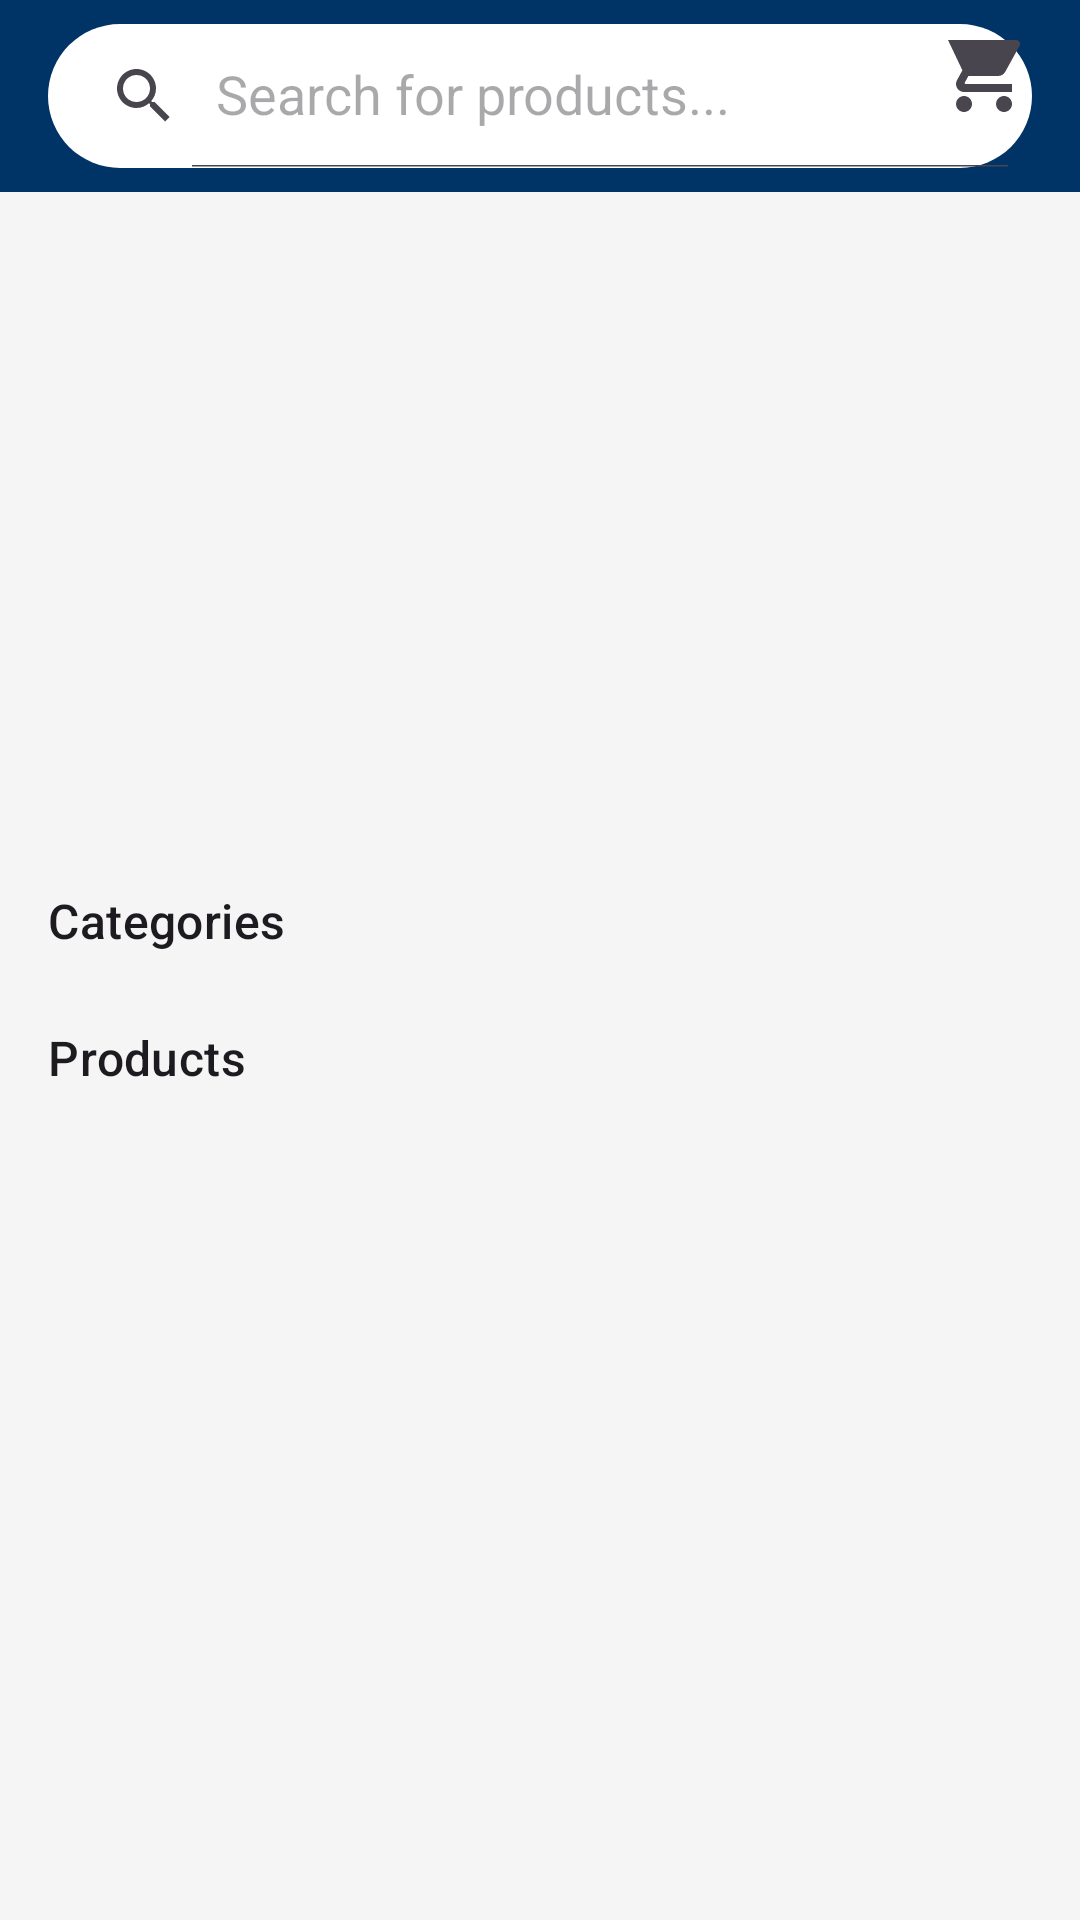

Where to tap for icons on this 1080*1920 app screen, as [x,y]:
cart: [984,72]
